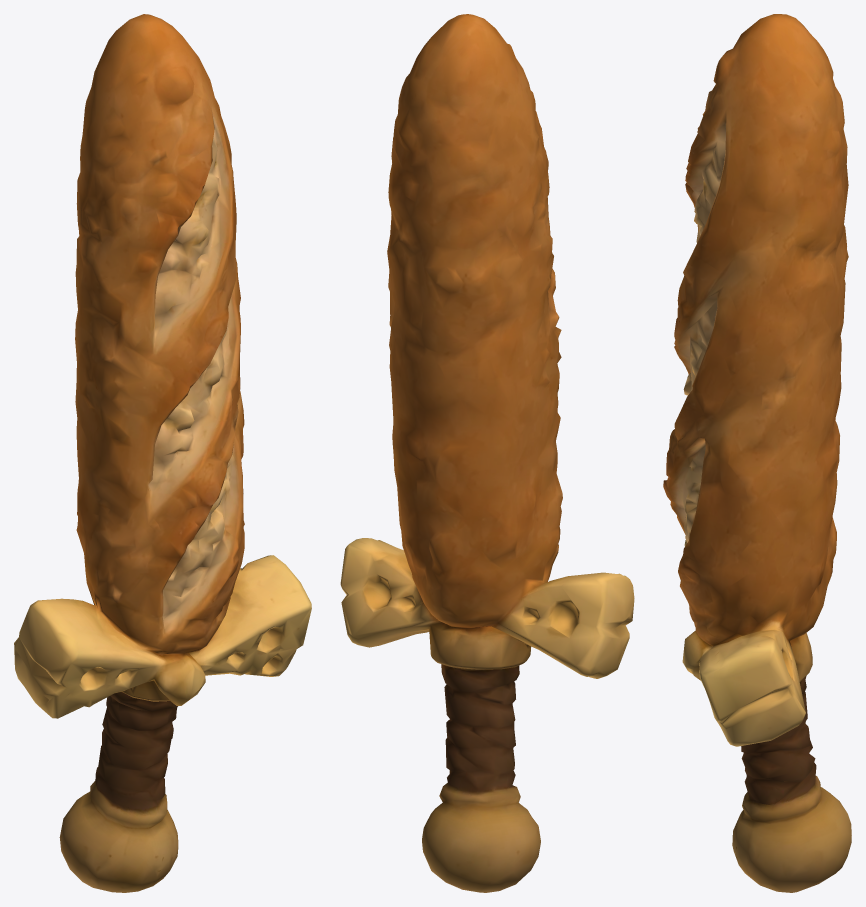
File: baguette_sword.glb
3 views of the same model, side by side, from view 1: azimuth 30°, elevation 25°; view 2: azimuth 150°, elevation 25°; view 3: azimuth 270°, elevation 25° (orthographic). The views are drawn at different scales.
Visible parts, largest first — view 1: tripo_node_1a990de0-ccf4-42ce-9a41-3c900d0c735f; view 2: tripo_node_1a990de0-ccf4-42ce-9a41-3c900d0c735f; view 3: tripo_node_1a990de0-ccf4-42ce-9a41-3c900d0c735f.
Part boxes in pixels (x1,y1,x2,y2): tripo_node_1a990de0-ccf4-42ce-9a41-3c900d0c735f: (14, 14, 311, 892); tripo_node_1a990de0-ccf4-42ce-9a41-3c900d0c735f: (340, 14, 634, 892); tripo_node_1a990de0-ccf4-42ce-9a41-3c900d0c735f: (663, 14, 851, 892).
Bounding box in the file's own units: 0.3212 × 1 × 0.1943.
Materials: 1 (1 with a texture image).
